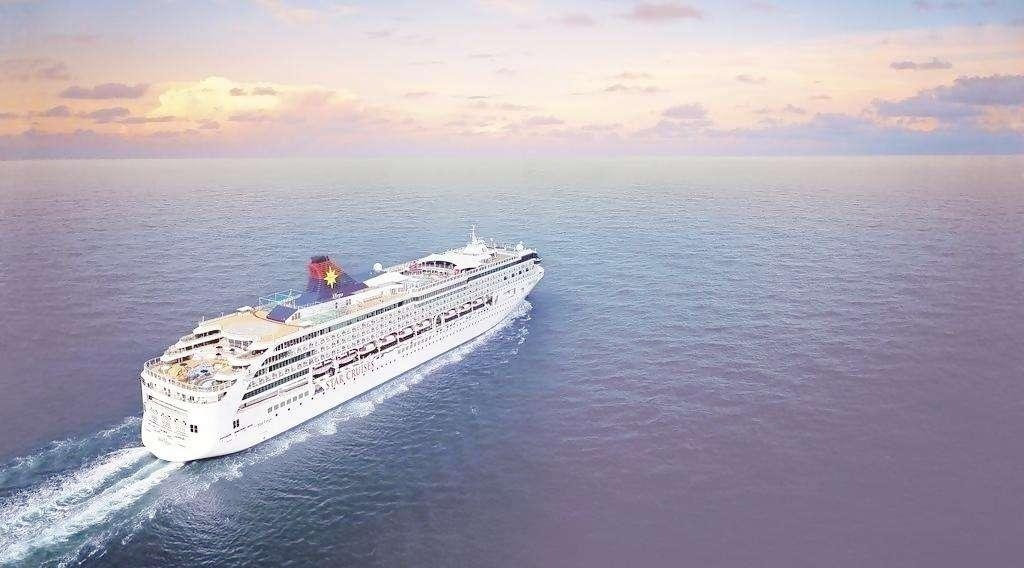youlun: (133, 219, 548, 464)
